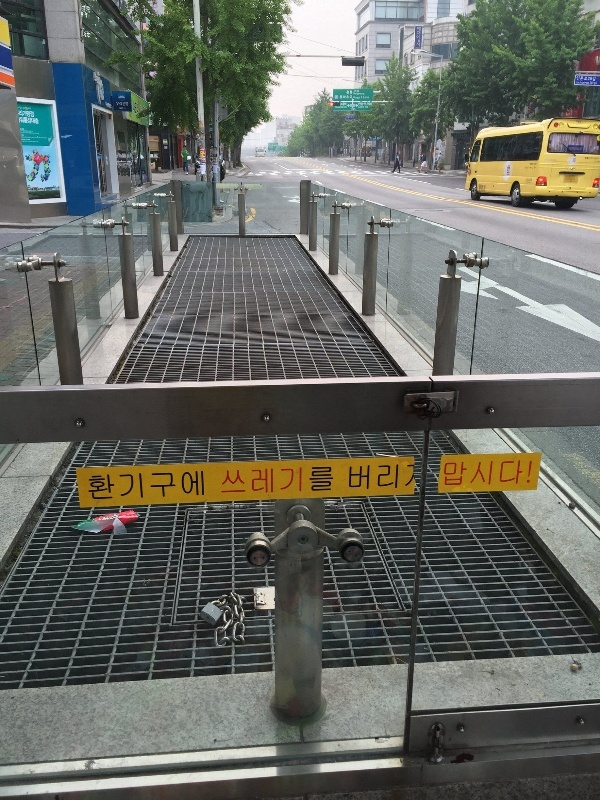text: (97, 467, 112, 505), (113, 467, 128, 505), (129, 467, 144, 505), (145, 467, 160, 505), (161, 467, 176, 505), (177, 467, 192, 505), (385, 462, 401, 496), (225, 462, 240, 498), (241, 462, 256, 498), (257, 462, 272, 498), (273, 462, 288, 498), (289, 462, 304, 498), (321, 462, 336, 496), (337, 462, 352, 496), (353, 462, 368, 496), (369, 462, 384, 496), (193, 467, 206, 505), (449, 457, 464, 489), (465, 457, 480, 489), (481, 457, 496, 489), (497, 457, 512, 489), (513, 457, 528, 489), (309, 462, 320, 496), (417, 26, 432, 49), (87, 467, 96, 505), (405, 461, 416, 491), (529, 457, 534, 489), (220, 462, 224, 498), (19, 116, 32, 125), (18, 109, 32, 117), (577, 75, 592, 82), (116, 100, 128, 108), (445, 457, 448, 489), (577, 80, 592, 86), (33, 116, 40, 125), (593, 80, 598, 86), (593, 75, 597, 82), (33, 109, 35, 117), (575, 80, 576, 86)
